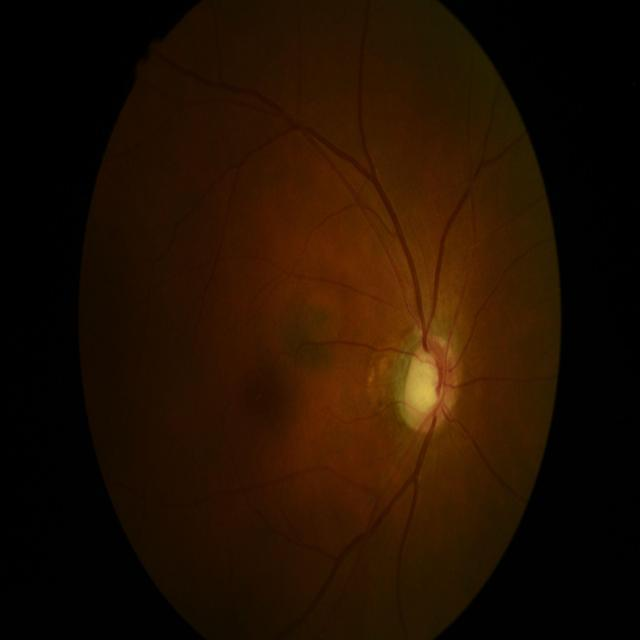cup: (408, 351, 445, 427)
disk: (402, 331, 462, 436)
